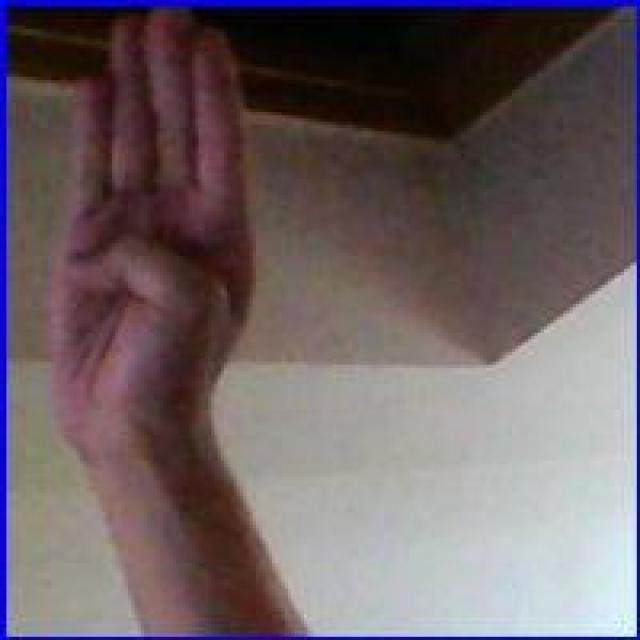B: (48, 10, 262, 480)
